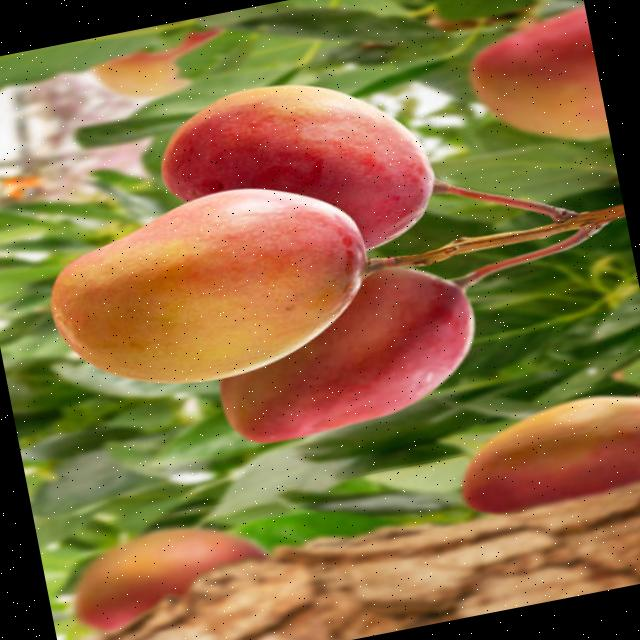mango: (52, 189, 366, 383), (160, 85, 434, 249), (222, 268, 474, 443)
